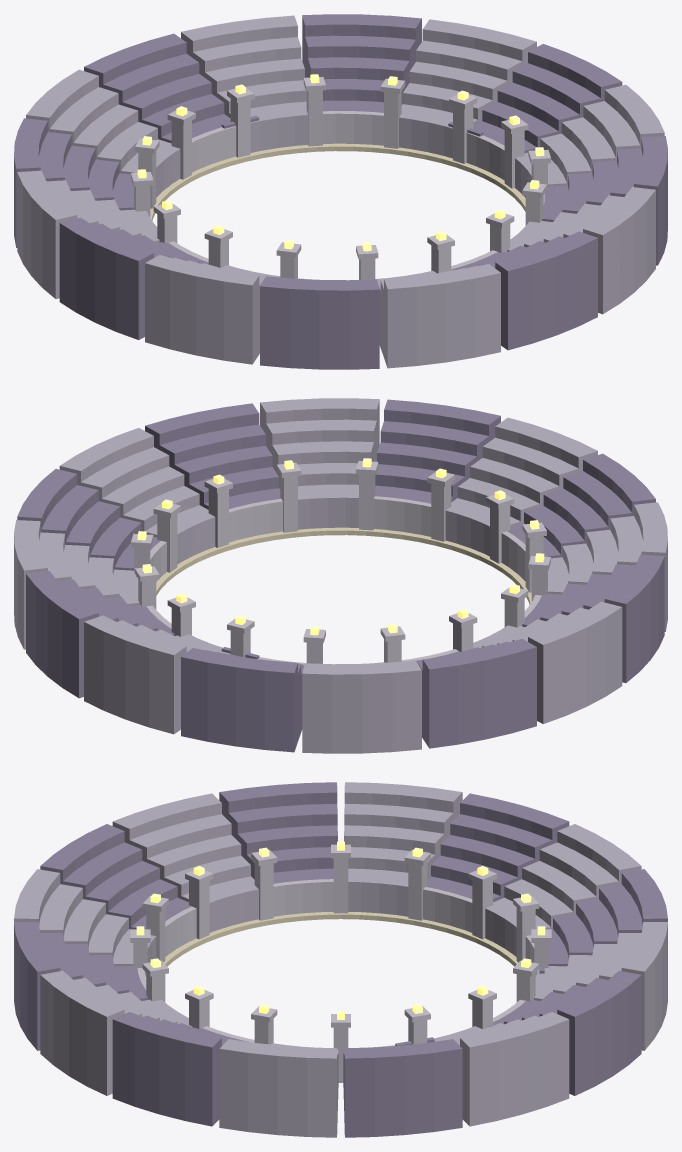
Rendered from arena_placeholder.glb.
The picture shows the model from 3 angles, top to bottom: view 1: azimuth 30°, elevation 25°; view 2: azimuth 150°, elevation 25°; view 3: azimuth 270°, elevation 25°; orthographic projection.
Visible parts, largest first — view 1: stand_15, stand_14, stand_13, stand_00, stand_06, stand_12, stand_07, stand_05, stand_08, stand_01, stand_04, stand_11 (+27 smaller); view 2: stand_08, stand_09, stand_10, stand_07, stand_01, stand_11, stand_00, stand_02, stand_15, stand_06, stand_03, stand_12 (+27 smaller); view 3: stand_03, stand_04, stand_02, stand_05, stand_11, stand_12, stand_10, stand_13, stand_01, stand_06, stand_09, stand_14 (+27 smaller).
Part boxes in pixels (left/top/right/bottom): stand_15: left=377, top=264, right=500, bottom=368; stand_14: left=260, top=276, right=379, bottom=369; stand_13: left=145, top=255, right=265, bottom=364; stand_00: left=451, top=231, right=597, bottom=350; stand_06: left=302, top=14, right=421, bottom=143; stand_12: left=59, top=217, right=208, bottom=339; stand_07: left=181, top=15, right=306, bottom=117; stand_05: left=401, top=19, right=536, bottom=125; stand_08: left=84, top=33, right=230, bottom=143; stand_01: left=507, top=187, right=655, bottom=314; stand_04: left=473, top=44, right=622, bottom=153; stand_11: left=17, top=170, right=159, bottom=298; stand_08: left=181, top=648, right=304, bottom=752; stand_09: left=302, top=660, right=421, bottom=753; stand_10: left=416, top=639, right=536, bottom=748; stand_07: left=84, top=615, right=230, bottom=734; stand_01: left=260, top=398, right=379, bottom=527; stand_11: left=473, top=601, right=622, bottom=723; stand_00: left=375, top=399, right=500, bottom=503; stand_02: left=145, top=403, right=280, bottom=509; stand_15: left=449, top=417, right=597, bottom=527; stand_06: left=26, top=571, right=174, bottom=698; stand_03: left=59, top=428, right=210, bottom=537; stand_12: left=522, top=554, right=664, bottom=682; stand_03: left=219, top=1039, right=338, bottom=1137; stand_04: left=343, top=1039, right=462, bottom=1137; stand_02: left=112, top=1012, right=250, bottom=1126; stand_05: left=435, top=1012, right=569, bottom=1126; stand_11: left=344, top=782, right=462, bottom=883; stand_12: left=219, top=782, right=337, bottom=883; stand_10: left=426, top=793, right=569, bottom=901; stand_13: left=112, top=793, right=255, bottom=901; stand_01: left=40, top=970, right=192, bottom=1095; stand_06: left=489, top=970, right=641, bottom=1095; stand_09: left=490, top=824, right=641, bottom=929; stand_14: left=40, top=824, right=191, bottom=929.
Bounding box in the file's own units: 58.4 × 7.8 × 58.4.
